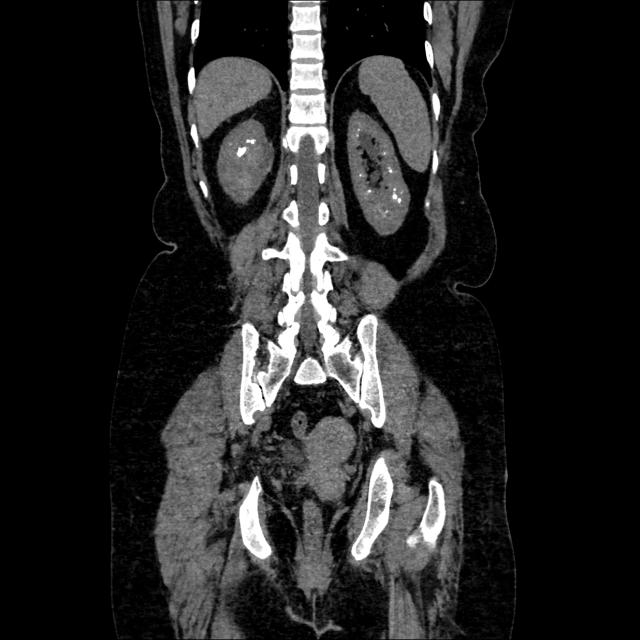kidney: (346, 106, 415, 242), (216, 114, 276, 209)
stone: (243, 126, 261, 153), (389, 183, 405, 208), (232, 140, 249, 162)
